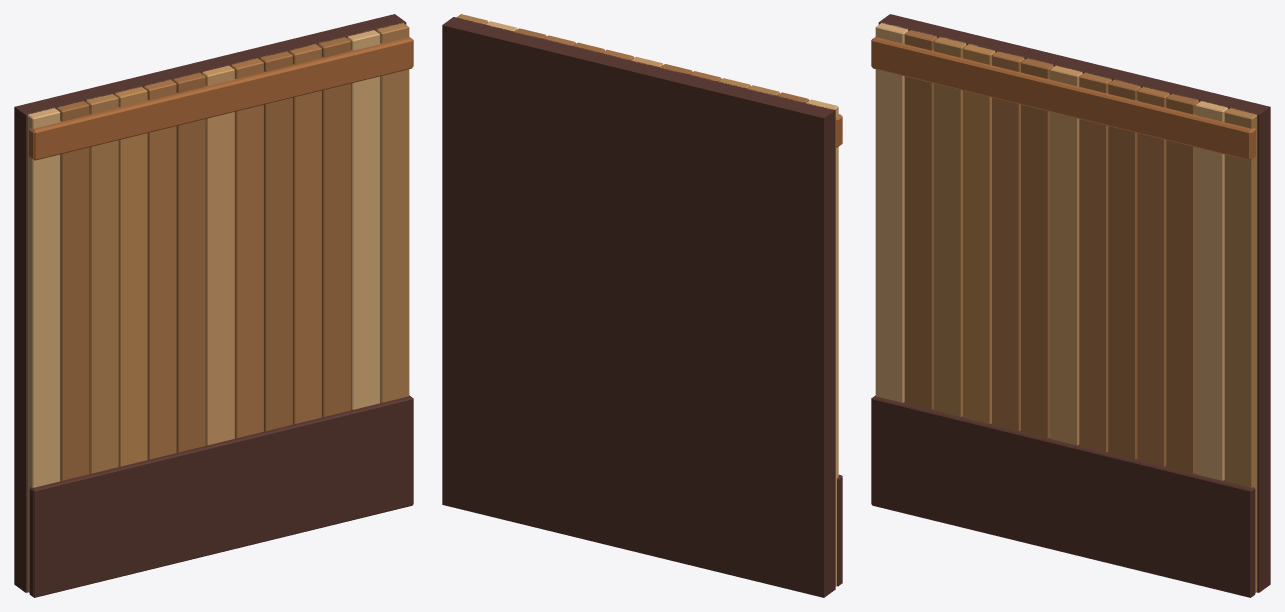
File: wall_exterior.glb
The picture shows the model from 3 angles, left to right: view 1: azimuth 30°, elevation 25°; view 2: azimuth 150°, elevation 25°; view 3: azimuth 330°, elevation 25°; orthographic projection.
Visible parts, largest first — view 1: Faixa inferior, Friso superior, Ripa da fachada, Painel estrutural, Ripa da fachada.003, Ripa da fachada.004, Ripa da fachada.002, Ripa da fachada.011, Ripa da fachada.012, Ripa da fachada.005, Ripa da fachada.001, Ripa da fachada.006 (+4 smaller); view 2: Painel estrutural, Ripa da fachada, Faixa inferior; view 3: Faixa inferior, Friso superior, Ripa da fachada.012, Painel estrutural, Ripa da fachada.008, Ripa da fachada.001, Ripa da fachada, Ripa da fachada.009, Ripa da fachada.010, Ripa da fachada.011, Ripa da fachada.007, Ripa da fachada.006 (+4 smaller).
Boxes of the visible parts, x1=… form: Faixa inferior: x1=29, y1=395, x2=413, y2=597; Friso superior: x1=29, y1=36, x2=413, y2=160; Ripa da fachada: x1=27, y1=108, x2=60, y2=592; Painel estrutural: x1=14, y1=14, x2=406, y2=592; Ripa da fachada.003: x1=114, y1=86, x2=147, y2=466; Ripa da fachada.004: x1=144, y1=79, x2=176, y2=459; Ripa da fachada.002: x1=85, y1=94, x2=118, y2=473; Ripa da fachada.011: x1=347, y1=29, x2=380, y2=409; Ripa da fachada.012: x1=376, y1=23, x2=409, y2=402; Ripa da fachada.005: x1=173, y1=72, x2=205, y2=452; Ripa da fachada.001: x1=56, y1=101, x2=89, y2=480; Ripa da fachada.006: x1=202, y1=65, x2=234, y2=445; Painel estrutural: x1=442, y1=17, x2=835, y2=597; Ripa da fachada: x1=806, y1=99, x2=838, y2=586; Faixa inferior: x1=837, y1=474, x2=842, y2=586; Faixa inferior: x1=871, y1=395, x2=1255, y2=597; Friso superior: x1=871, y1=36, x2=1255, y2=160; Ripa da fachada.012: x1=1224, y1=108, x2=1257, y2=592; Painel estrutural: x1=878, y1=14, x2=1270, y2=592; Ripa da fachada.008: x1=1108, y1=79, x2=1140, y2=459; Ripa da fachada.001: x1=904, y1=30, x2=937, y2=409; Ripa da fachada: x1=875, y1=22, x2=908, y2=402; Ripa da fachada.009: x1=1137, y1=86, x2=1170, y2=466; Ripa da fachada.010: x1=1166, y1=94, x2=1199, y2=473; Ripa da fachada.011: x1=1195, y1=101, x2=1228, y2=480; Ripa da fachada.007: x1=1079, y1=72, x2=1111, y2=452; Ripa da fachada.006: x1=1050, y1=65, x2=1082, y2=445.
Bounding box in the file's own units: 2.5 × 3 × 0.224.
